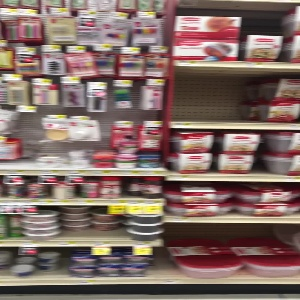void: (170, 64, 269, 128)
